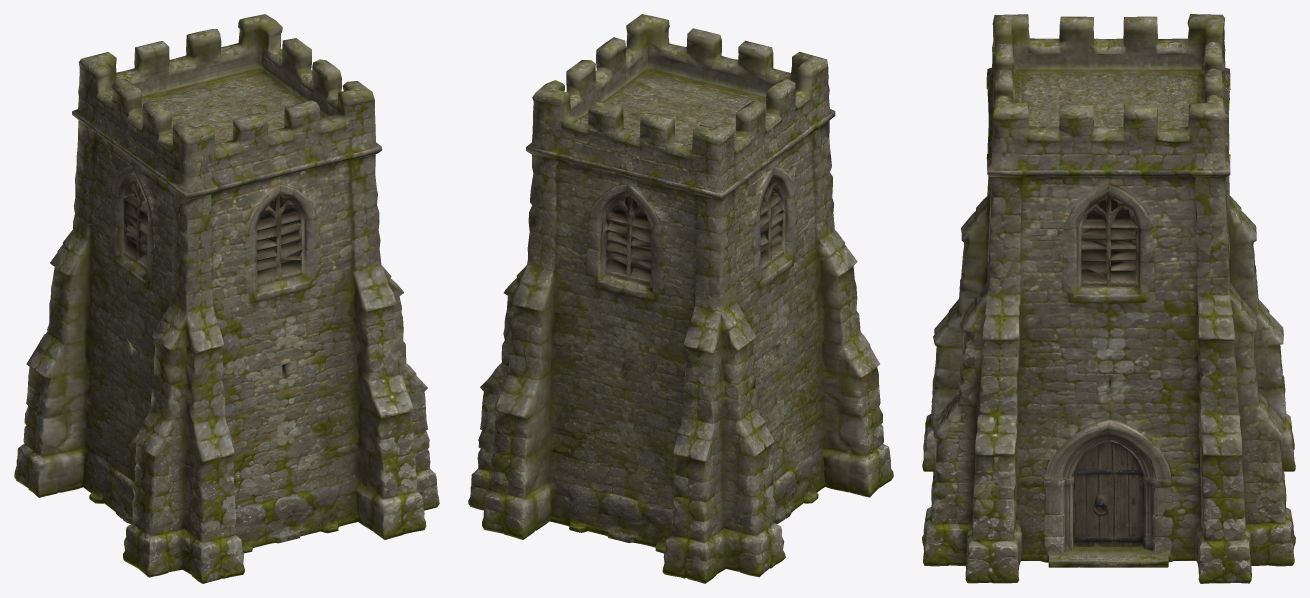
File: church_tower_tripo.glb
3 views of the same model, side by side, from view 1: azimuth 30°, elevation 25°; view 2: azimuth 150°, elevation 25°; view 3: azimuth 270°, elevation 25° (orthographic). The views are drawn at different scales.
Parts seen in each view (by area): view 1: tripo_node_2578825e-0343-453a-b24f-dc776d597891; view 2: tripo_node_2578825e-0343-453a-b24f-dc776d597891; view 3: tripo_node_2578825e-0343-453a-b24f-dc776d597891.
Part boxes in pixels (bbox=[...]): tripo_node_2578825e-0343-453a-b24f-dc776d597891: bbox=[14, 14, 439, 583]; tripo_node_2578825e-0343-453a-b24f-dc776d597891: bbox=[468, 14, 893, 583]; tripo_node_2578825e-0343-453a-b24f-dc776d597891: bbox=[922, 14, 1295, 583].
Size of the model in its own units: 0.7302 by 1 by 0.7549.
Materials: 1 (1 with a texture image).
